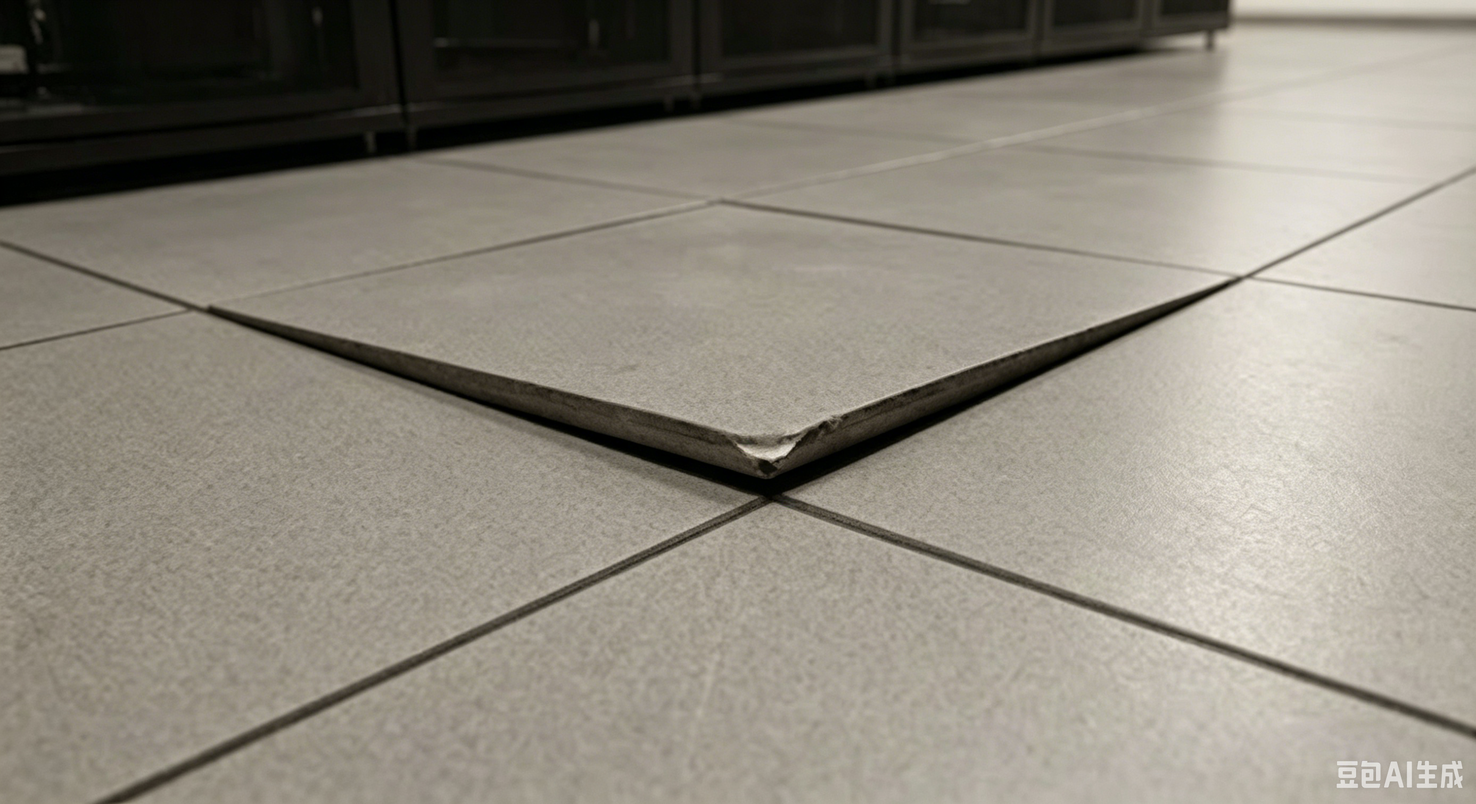floor_defect: (203, 293, 790, 521), (795, 387, 987, 507), (898, 325, 1124, 398), (1096, 272, 1244, 345)
